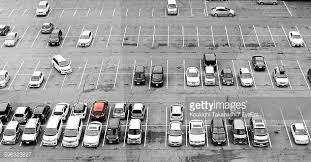empty: (144, 123, 168, 155), (267, 127, 295, 148), (96, 70, 120, 93), (106, 35, 131, 54), (146, 104, 168, 125), (106, 21, 127, 38), (225, 36, 252, 49), (80, 74, 101, 90), (236, 23, 259, 36), (19, 37, 41, 50), (167, 35, 190, 47), (195, 36, 218, 47), (152, 23, 169, 35)
